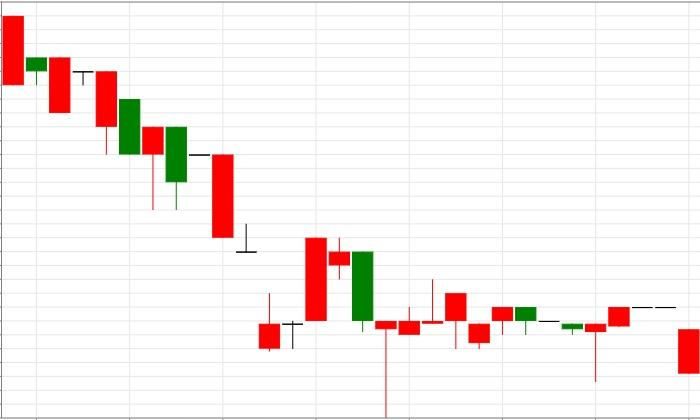hammer_rise: (2, 16, 163, 210)
